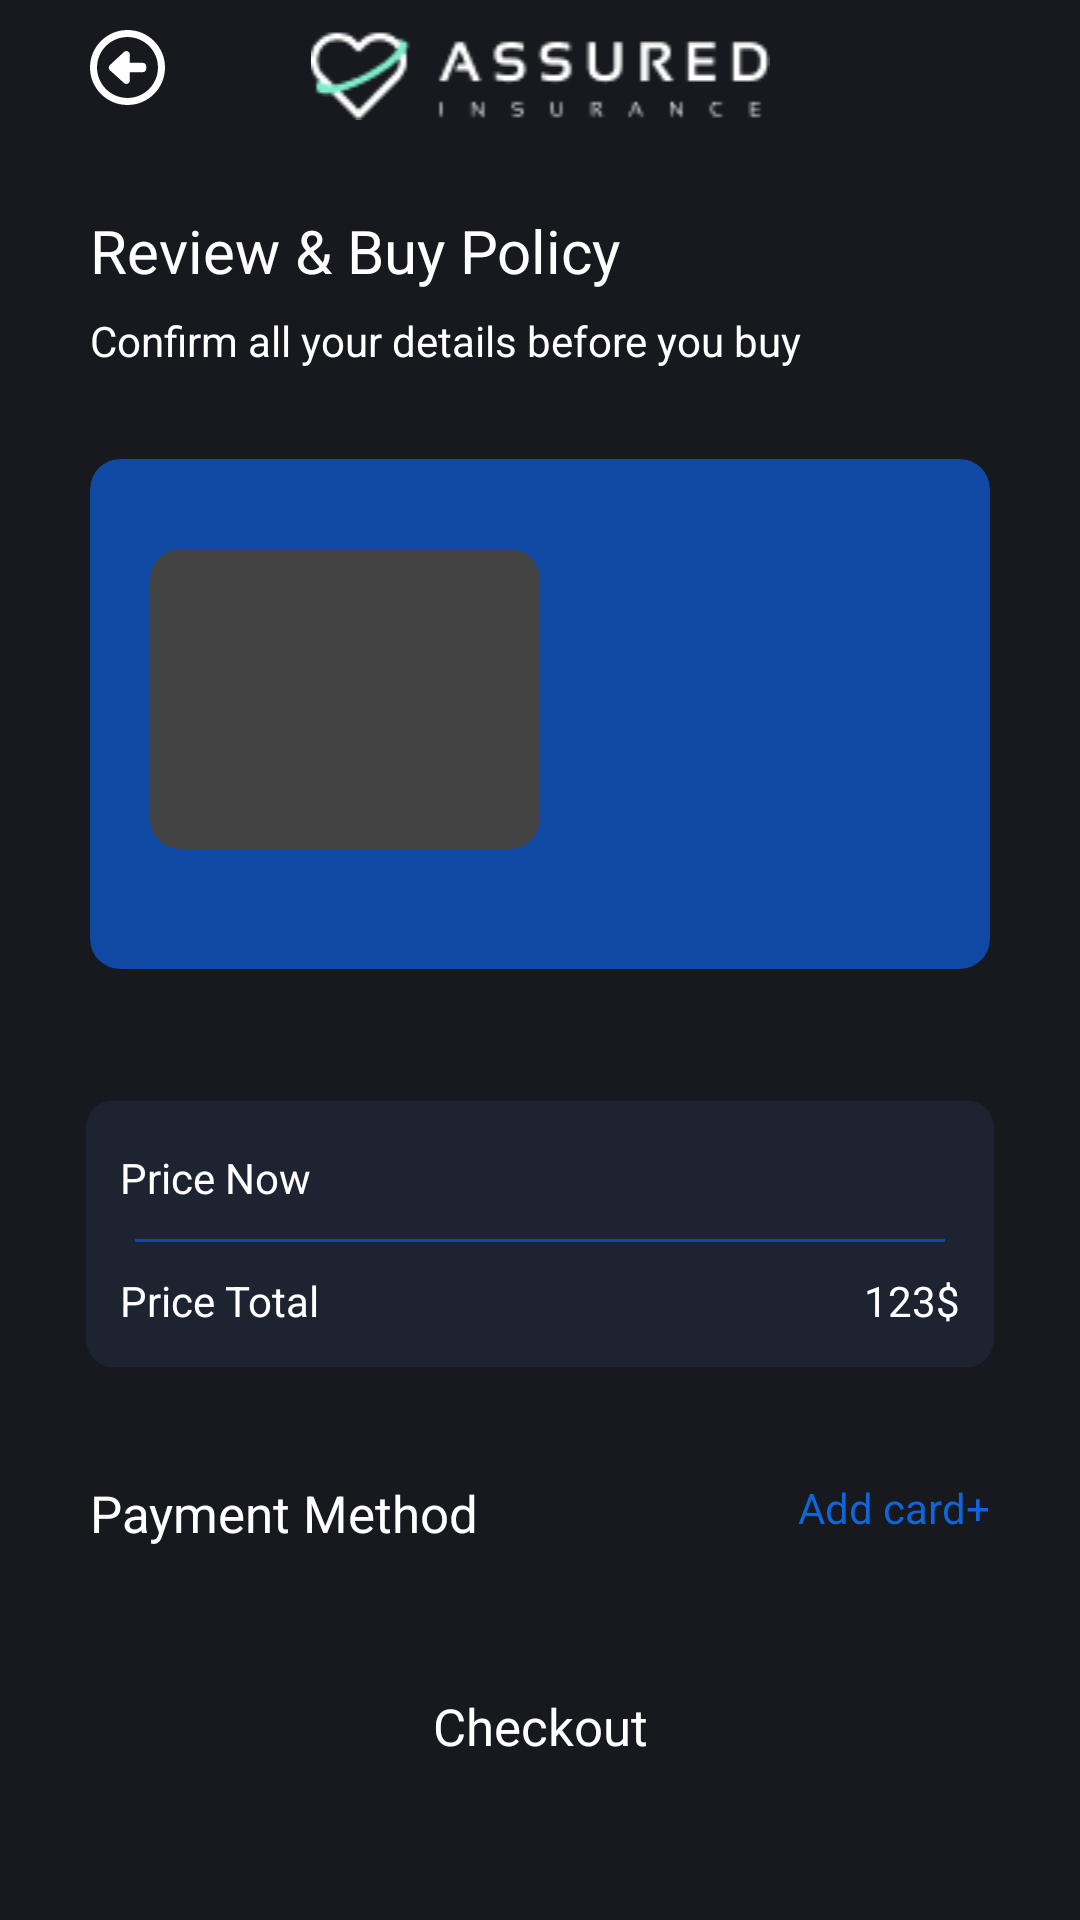

Named icons in this screenshot (1080×1920) and their bounding boxes, (x1, y1, x2, y2):
back: (90, 30, 165, 105)
